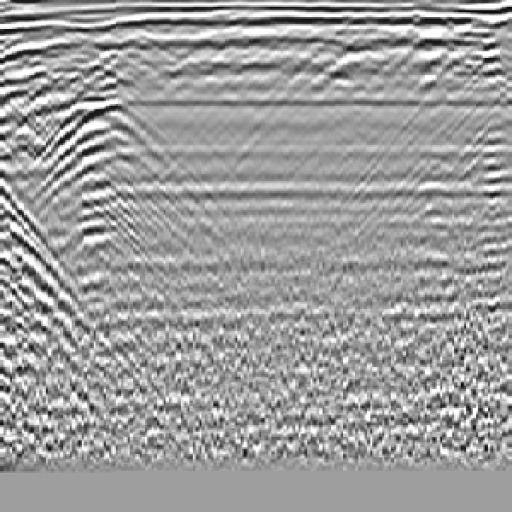metalic: (25, 81, 176, 270)
